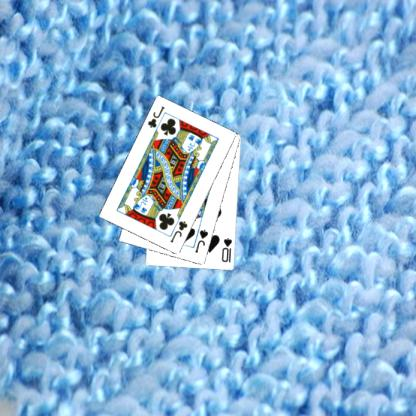10S: (219, 235, 234, 264)
JC: (167, 218, 189, 244), (145, 104, 166, 130)
JS: (192, 227, 210, 254)
